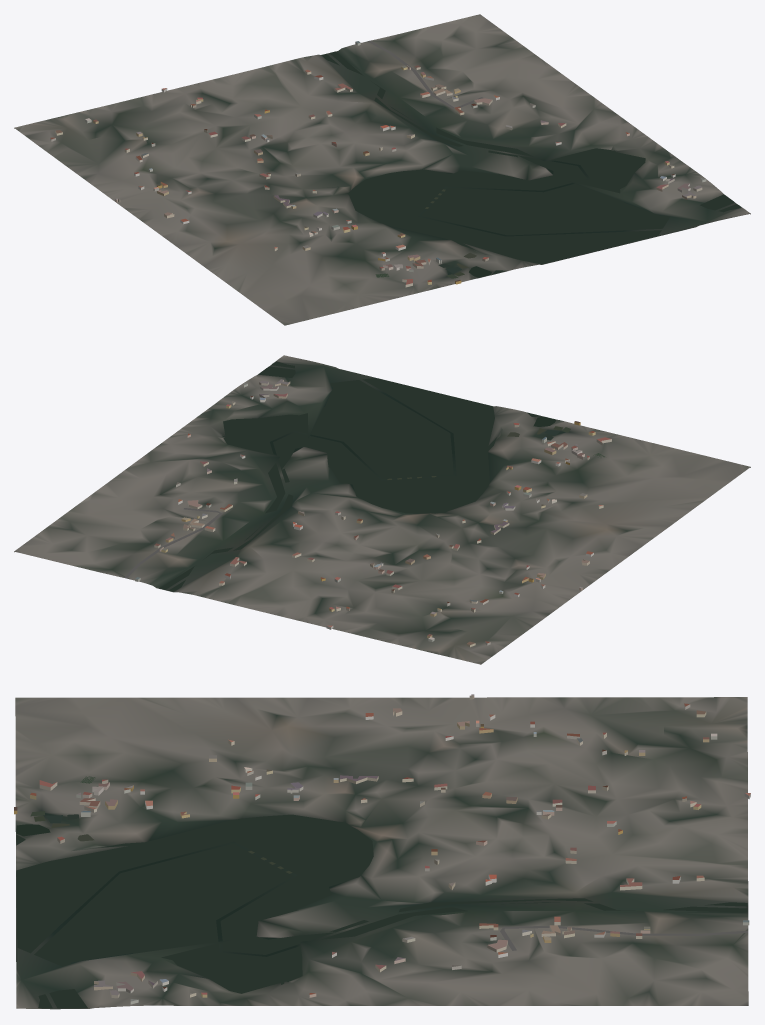
3 views of the same model, one above another, from view 1: azimuth 30°, elevation 25°; view 2: azimuth 150°, elevation 25°; view 3: azimuth 270°, elevation 25° (orthographic). The views are drawn at different scales.
Parts seen in each view (by area): view 1: ground, water, buildings; view 2: ground, water, buildings; view 3: ground, water, buildings, roads.
Part boxes in pixels (left/top/right/bottom): ground: left=14, top=14, right=750, bottom=325; water: left=321, top=51, right=741, bottom=278; buildings: left=50, top=41, right=706, bottom=287; ground: left=14, top=355, right=750, bottom=664; water: left=159, top=361, right=604, bottom=591; buildings: left=135, top=379, right=611, bottom=647; ground: left=15, top=697, right=748, bottom=1009; water: left=16, top=776, right=747, bottom=1008; buildings: left=14, top=694, right=750, bottom=1004; roads: left=500, top=926, right=748, bottom=950.
Bounding box in the file's own units: 1398 × 20.58 × 1411.
